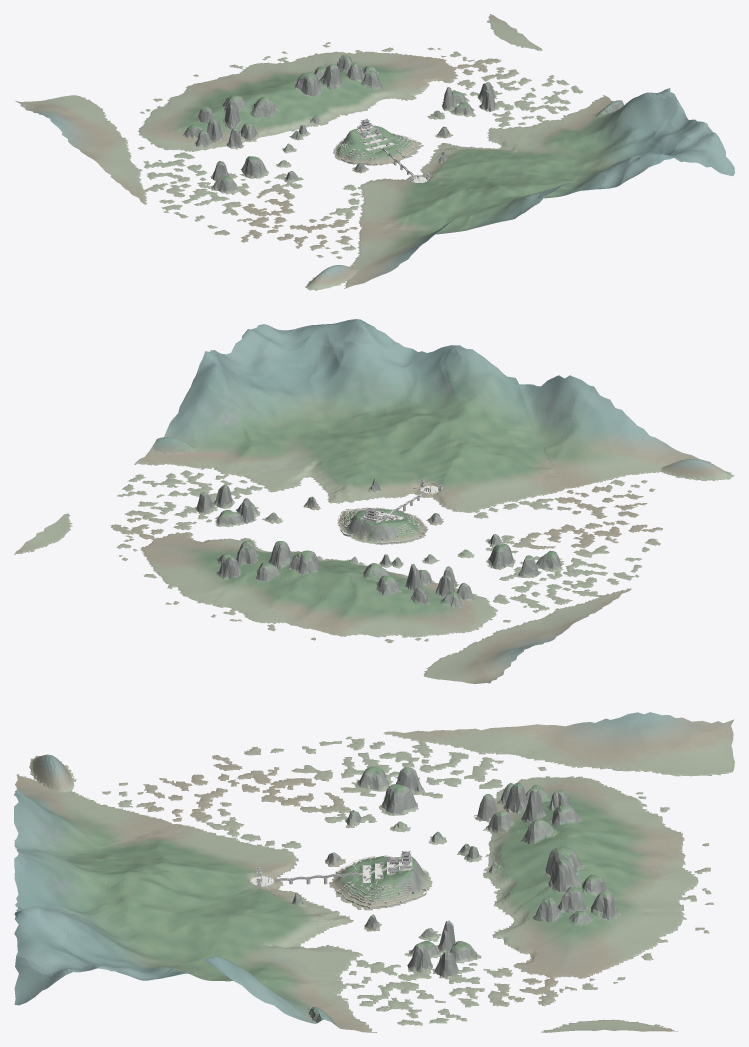
The model's file is sect_shuiying_surroundings.glb.
The picture shows the model from 3 angles, top to bottom: view 1: azimuth 30°, elevation 25°; view 2: azimuth 150°, elevation 25°; view 3: azimuth 270°, elevation 25°; orthographic projection. The views are drawn at different scales.
Visible parts, largest first — view 1: sect_shuiying_surroundings (×2); view 2: sect_shuiying_surroundings (×2); view 3: sect_shuiying_surroundings (×2).
Boxes of the visible parts, left/top/right/bottom form: sect_shuiying_surroundings (×2): left=15, top=14, right=734, bottom=290; sect_shuiying_surroundings (×2): left=14, top=319, right=734, bottom=683; sect_shuiying_surroundings (×2): left=14, top=712, right=734, bottom=1032.
Bounding box in the file's own units: 3545 × 412 × 3582.
